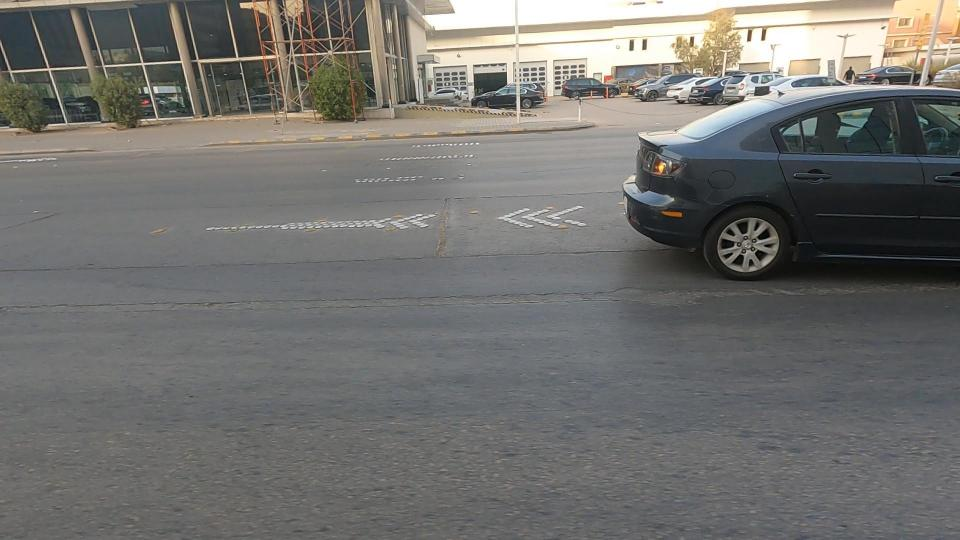CONSTRUCTION_ROAD: (178, 0, 449, 214)
